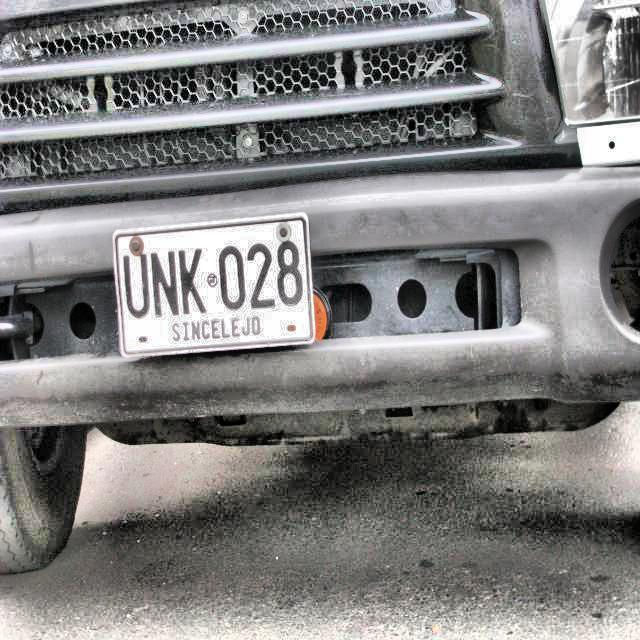plate: (116, 215, 312, 355)
